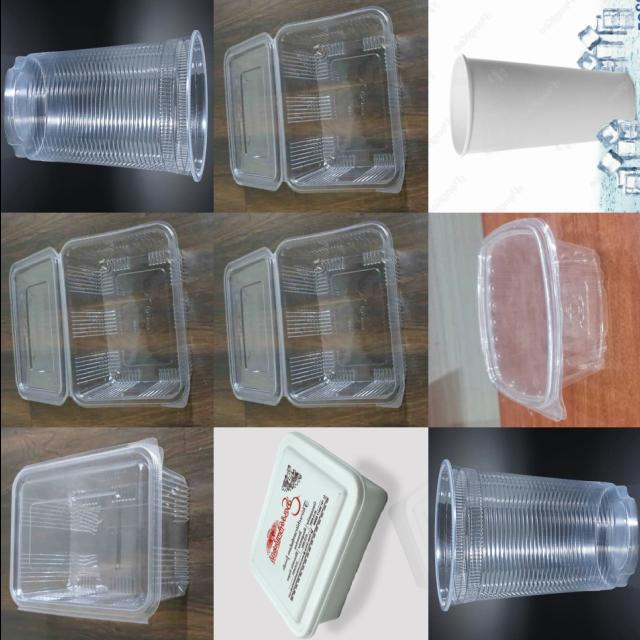plastik: (8, 222, 189, 408), (223, 7, 404, 193), (223, 222, 403, 406), (9, 438, 188, 623), (433, 460, 637, 611), (4, 31, 206, 182), (248, 432, 385, 637), (477, 218, 605, 421), (450, 55, 634, 156)
